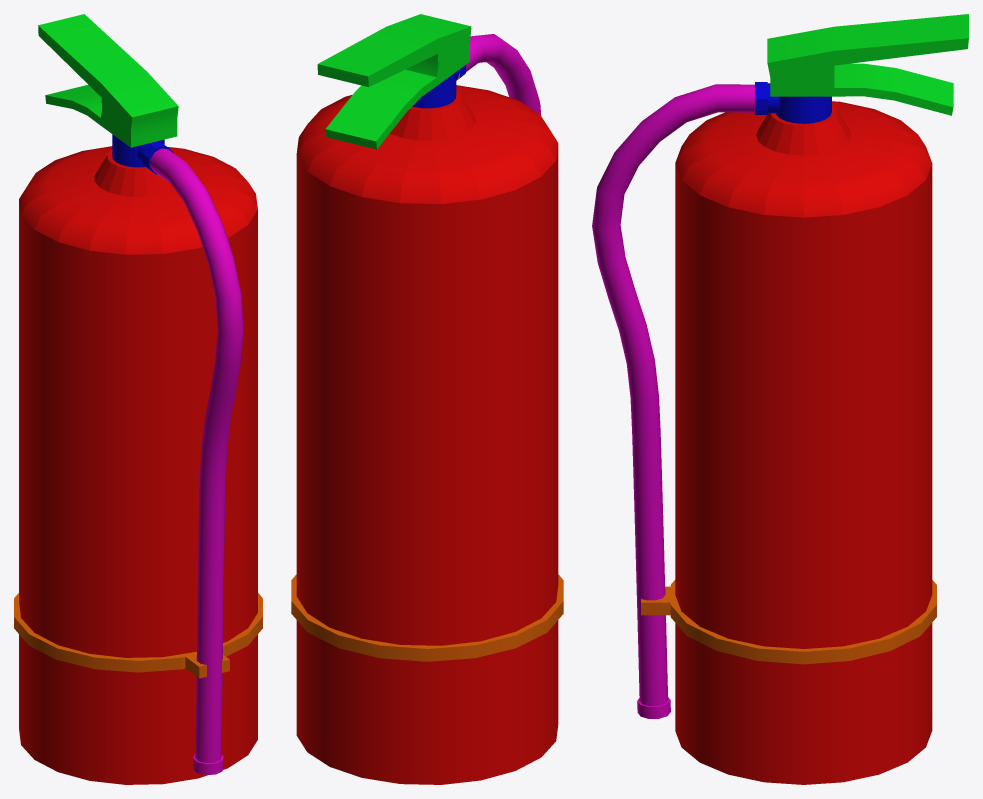
Rendered from Fire_Extinguisher.fbx.
3 renders of one model, left to right at view 1: azimuth 30°, elevation 25°; view 2: azimuth 150°, elevation 25°; view 3: azimuth 270°, elevation 25°, orthographic. The views are drawn at different scales.
Parts seen in each view (by area): view 1: Fire_extinguisher; view 2: Fire_extinguisher; view 3: Fire_extinguisher.
Boxes of the visible parts, left/top/right/bottom form: Fire_extinguisher: left=14, top=14, right=262, bottom=784; Fire_extinguisher: left=291, top=14, right=563, bottom=784; Fire_extinguisher: left=592, top=14, right=968, bottom=784.
Size of the model in its own units: 18.92 by 54.41 by 26.38.
